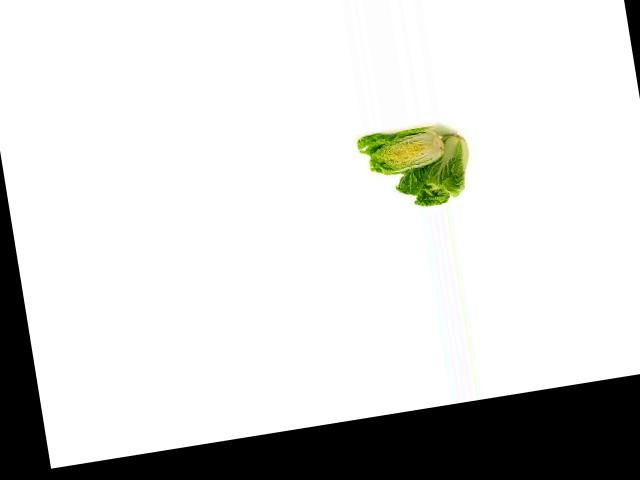lettuce: (383, 127, 478, 214)
